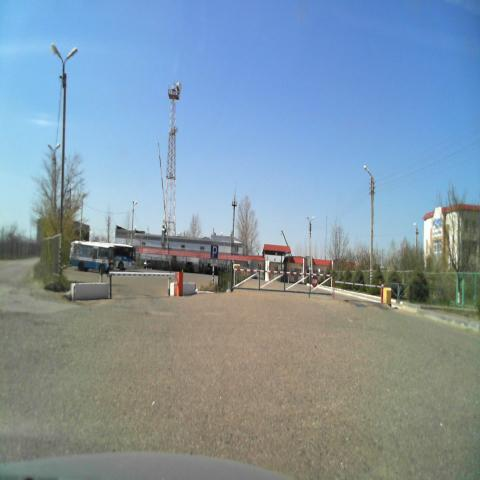6_4: (212, 246, 222, 260)
